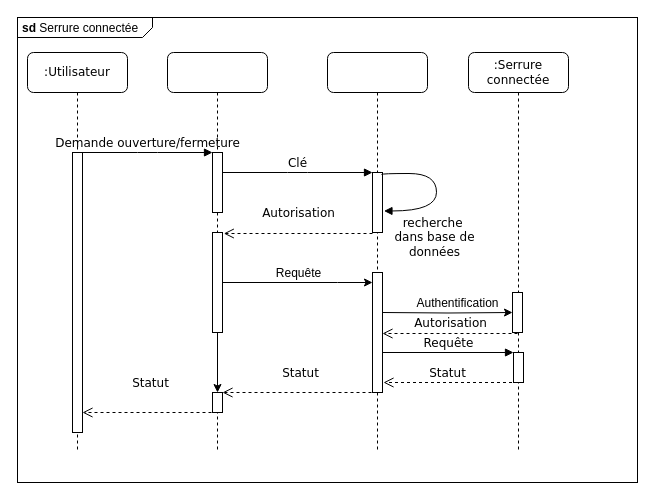
The diagram is 655 pixels wide and 500 high, and some of its shapes have lost their labels. The box of each missing label's shape, as (x1, y1, x2, y2) in pixels:
:Application mobile: (166, 52, 268, 452)
:Système informatique: (326, 52, 428, 452)
